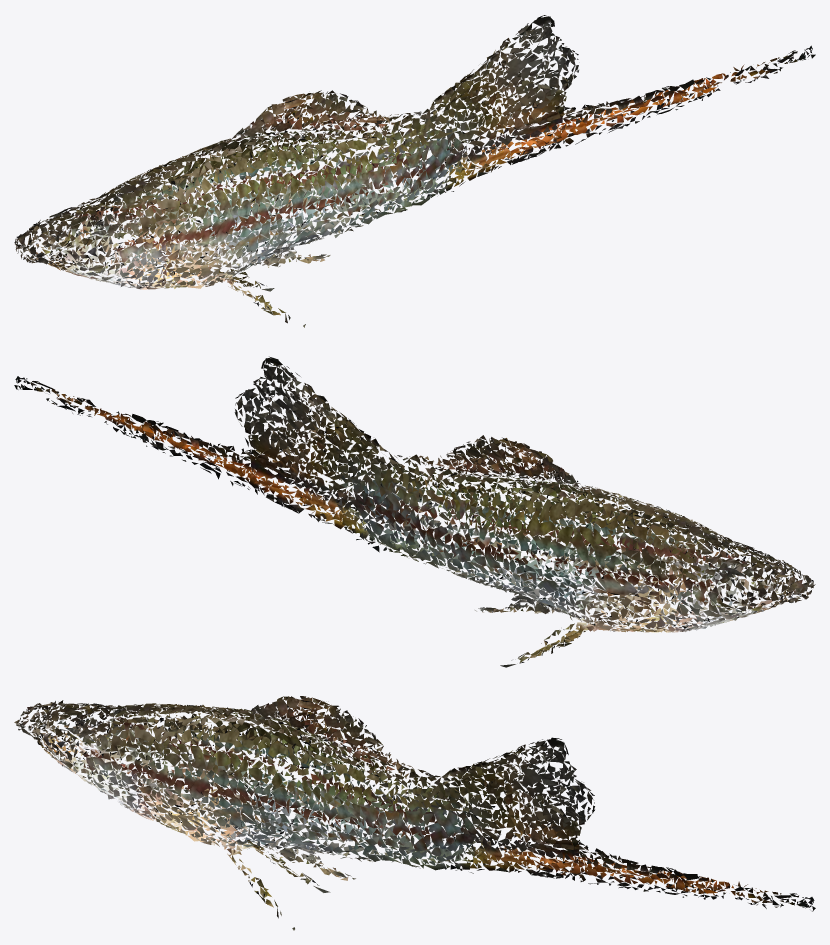
Rendered from swordtail.glb.
3 renders of one model, top to bottom at view 1: azimuth 30°, elevation 25°; view 2: azimuth 150°, elevation 25°; view 3: azimuth 330°, elevation 25°, orthographic.
Parts seen in each view (by area): view 1: low; view 2: low; view 3: low.
Boxes of the visible parts, x1,y1,x2,y2 form: low: (14,15,815,327); low: (14,356,815,667); low: (14,696,815,930).
Size of the model in its own units: 7.87 by 2.32 by 0.7549.
1 material, 1 textured.
